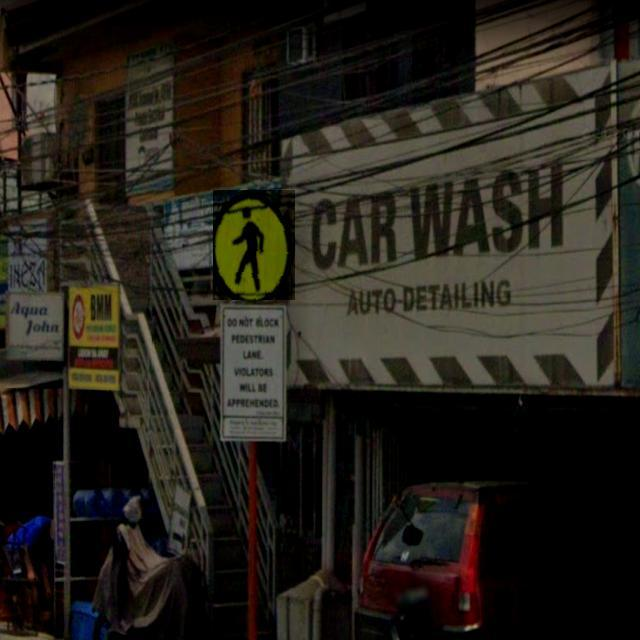pedestrian crossing: (213, 190, 295, 300)
